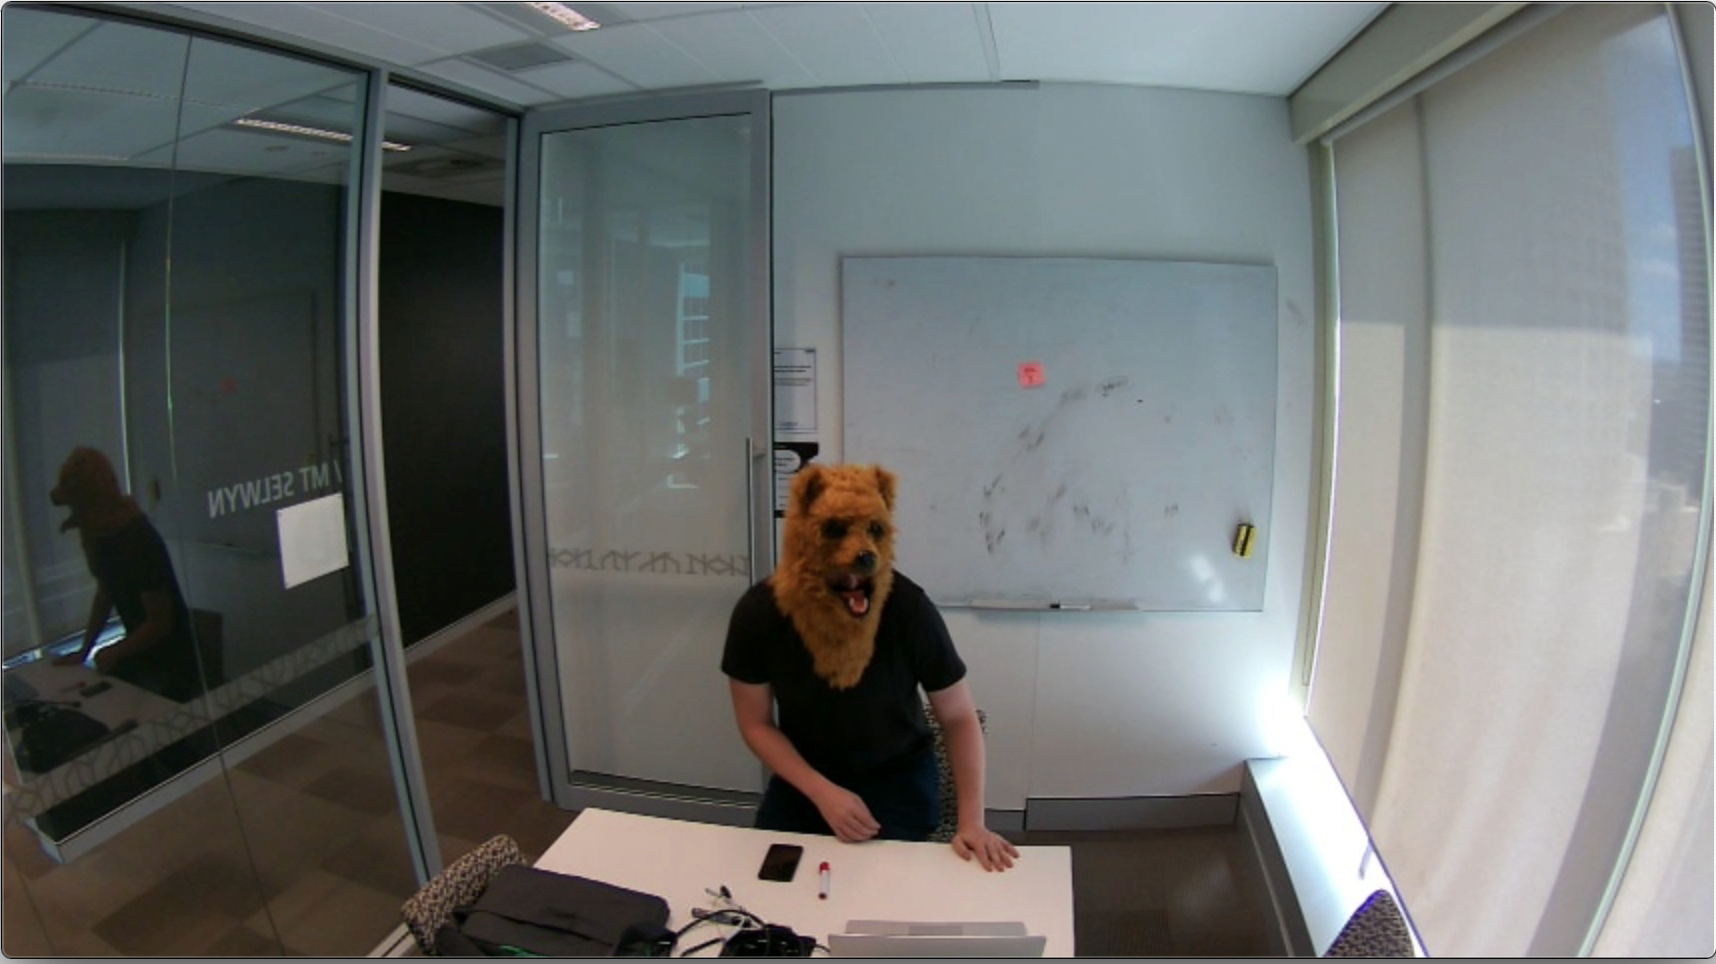Bear: (781, 460, 900, 628)
